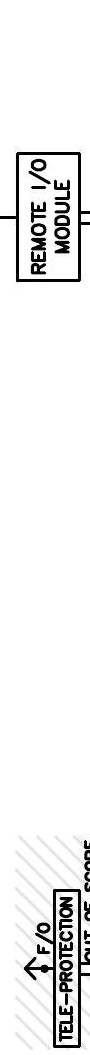remote_io_module: (16, 152, 81, 283)
tele_protection: (52, 888, 82, 1049)
